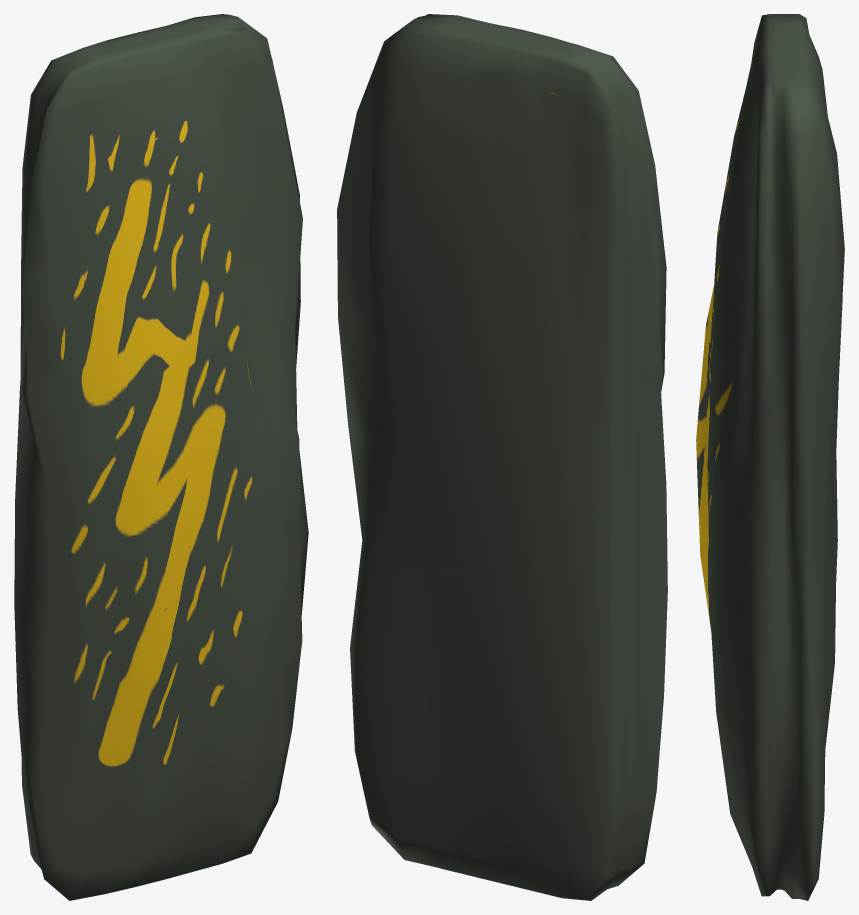
The model's file is stone.fbx.
3 views of the same model, side by side, from view 1: azimuth 30°, elevation 25°; view 2: azimuth 150°, elevation 25°; view 3: azimuth 270°, elevation 25° (orthographic). The views are drawn at different scales.
Parts seen in each view (by area): view 1: stone; view 2: stone; view 3: stone.
Boxes of the visible parts, x1=… form: stone: x1=14, y1=14, x2=308, y2=900; stone: x1=337, y1=14, x2=667, y2=900; stone: x1=696, y1=14, x2=844, y2=900.
Size of the model in its own units: 221 by 574 by 95.51.
1 material, 1 textured.
